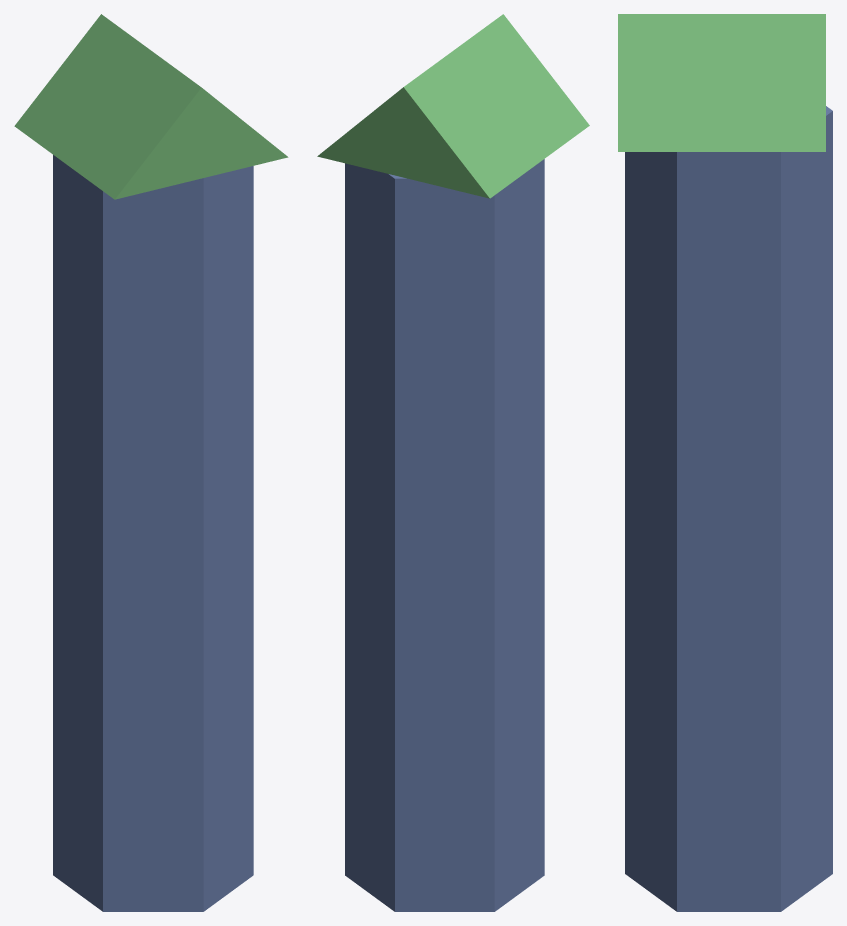
The model's file is asset.glb.
3 renders of one model, left to right at view 1: azimuth 30°, elevation 25°; view 2: azimuth 150°, elevation 25°; view 3: azimuth 270°, elevation 25°, orthographic. The views are drawn at different scales.
Visible parts, largest first — view 1: Mesh_Mesh_head_geo.001_lambert2SG.001; view 2: Mesh_Mesh_head_geo.001_lambert2SG.001; view 3: Mesh_Mesh_head_geo.001_lambert2SG.001.
Part boxes in pixels (x1,y1,x2,y2): Mesh_Mesh_head_geo.001_lambert2SG.001: [14, 14, 288, 911]; Mesh_Mesh_head_geo.001_lambert2SG.001: [317, 14, 589, 911]; Mesh_Mesh_head_geo.001_lambert2SG.001: [618, 14, 832, 911].
Bounding box in the file's own units: 2 × 9.1 × 2.07.
